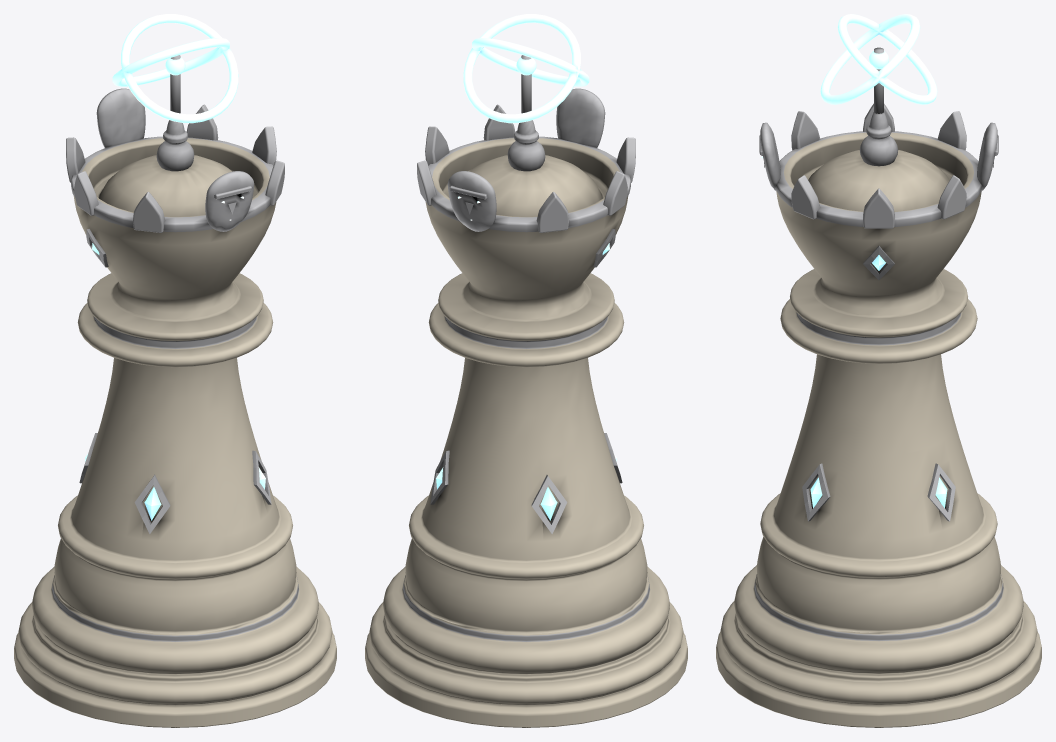
File: regent.glb
3 views of the same model, side by side, from view 1: azimuth 30°, elevation 25°; view 2: azimuth 150°, elevation 25°; view 3: azimuth 270°, elevation 25° (orthographic).
Parts seen in each view (by area): view 1: regent; view 2: regent; view 3: regent.
Part boxes in pixels (box(x1,y1,x2,y2)): regent: box(14, 14, 336, 727); regent: box(365, 14, 687, 727); regent: box(716, 14, 1041, 727).
Size of the model in its own units: 0.76 by 1.64 by 0.76.
